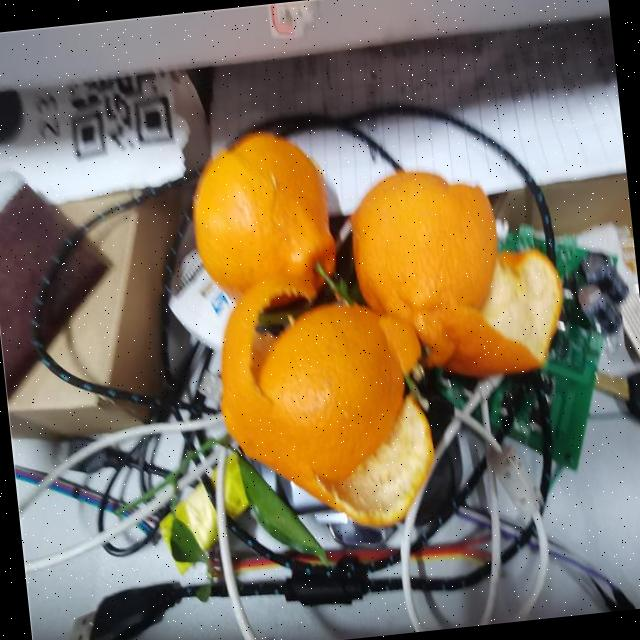orange-peel: (179, 98, 585, 542)
